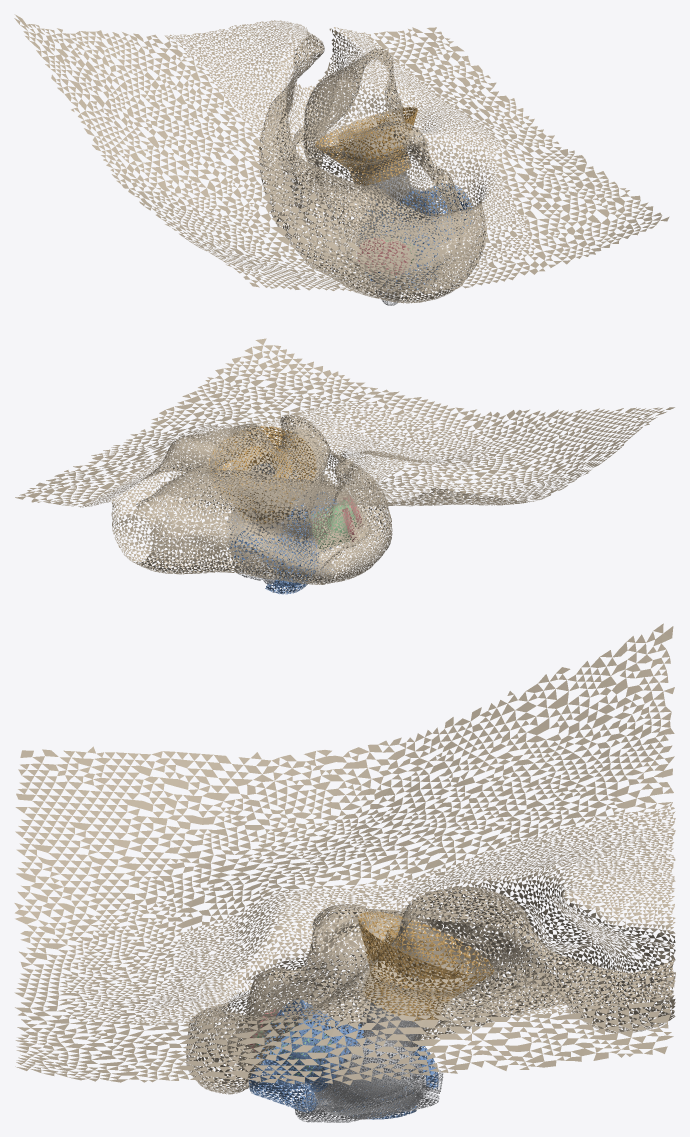
File: seated_large.glb
3 views of the same model, one above another, from view 1: azimuth 30°, elevation 25°; view 2: azimuth 150°, elevation 25°; view 3: azimuth 270°, elevation 25° (orthographic). The views are drawn at different scales.
Parts seen in each view (by area): view 1: ear, carrier, jacket_wing, nozzle_insert_short, core; view 2: ear, carrier, jacket_wing, core, stack_site2, nozzle_insert_short; view 3: ear, carrier, jacket_wing, faceplate, core, nozzle_insert_short.
Part boxes in pixels (bbox=[...]): ear: bbox=[14, 14, 669, 303]; carrier: bbox=[315, 107, 417, 185]; jacket_wing: bbox=[358, 183, 472, 290]; nozzle_insert_short: bbox=[357, 133, 413, 208]; core: bbox=[356, 180, 433, 305]; ear: bbox=[15, 338, 674, 584]; carrier: bbox=[208, 426, 316, 524]; jacket_wing: bbox=[229, 459, 337, 594]; core: bbox=[228, 500, 335, 584]; stack_site2: bbox=[312, 512, 350, 549]; nozzle_insert_short: bbox=[242, 464, 288, 536]; ear: bbox=[14, 623, 675, 1094]; carrier: bbox=[357, 911, 494, 1021]; jacket_wing: bbox=[248, 999, 438, 1119]; faceplate: bbox=[313, 1058, 421, 1119]; core: bbox=[294, 1010, 443, 1122]; nozzle_insert_short: bbox=[358, 948, 438, 1053].
Size of the model in its own units: 84.91 by 47.72 by 84.94.
